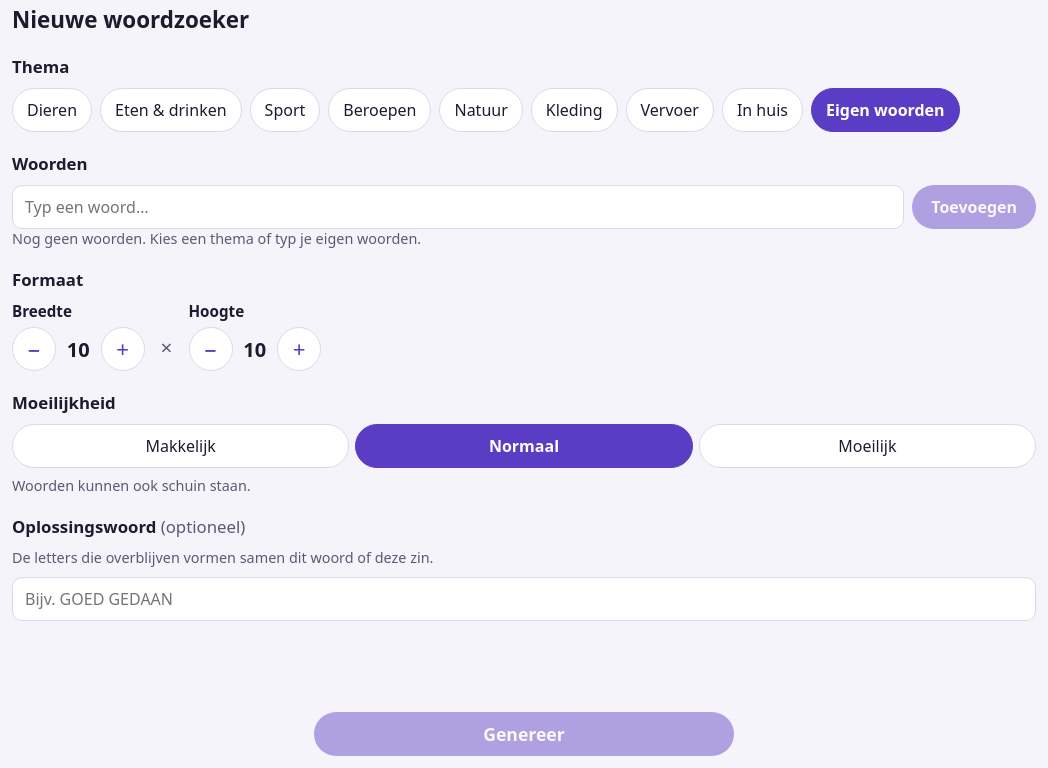
Test case: SetupScreen › adds, pastes and removes words
The width and height of the screenshot is (1048, 768).
In the field named "Woord toevoegen": point(458, 207) [12, 185, 904, 229], type "kat"
Then press Enter
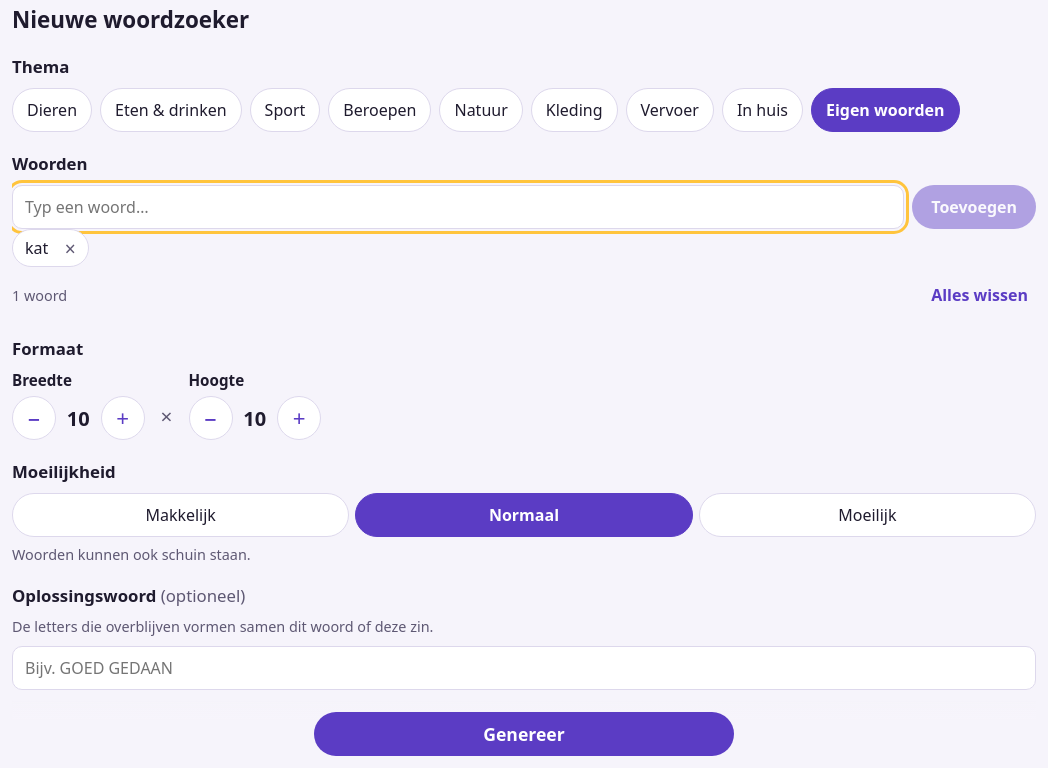
In the field named "Woord toevoegen": point(458, 207) [12, 185, 904, 229], type "hond, vis; ijs-beer"
Then press Enter
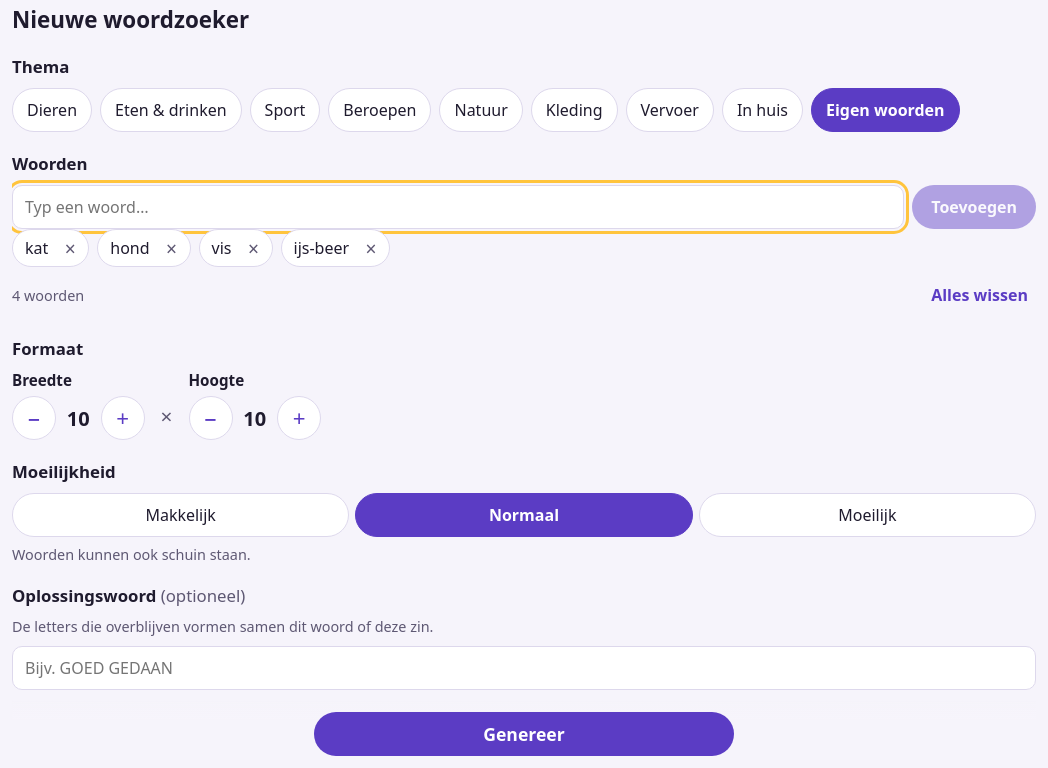
Click the button named "vis verwijderen": point(254, 248) [236, 230, 272, 266]
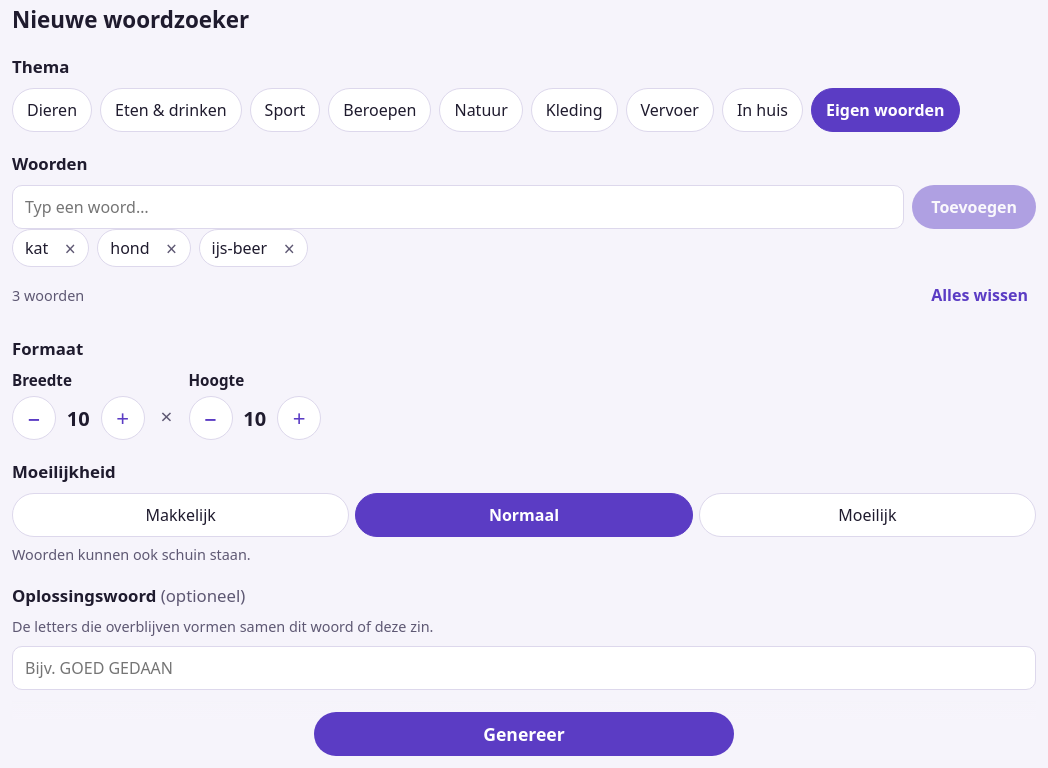
Click the button "Alles wissen": point(980, 295) [923, 273, 1036, 317]
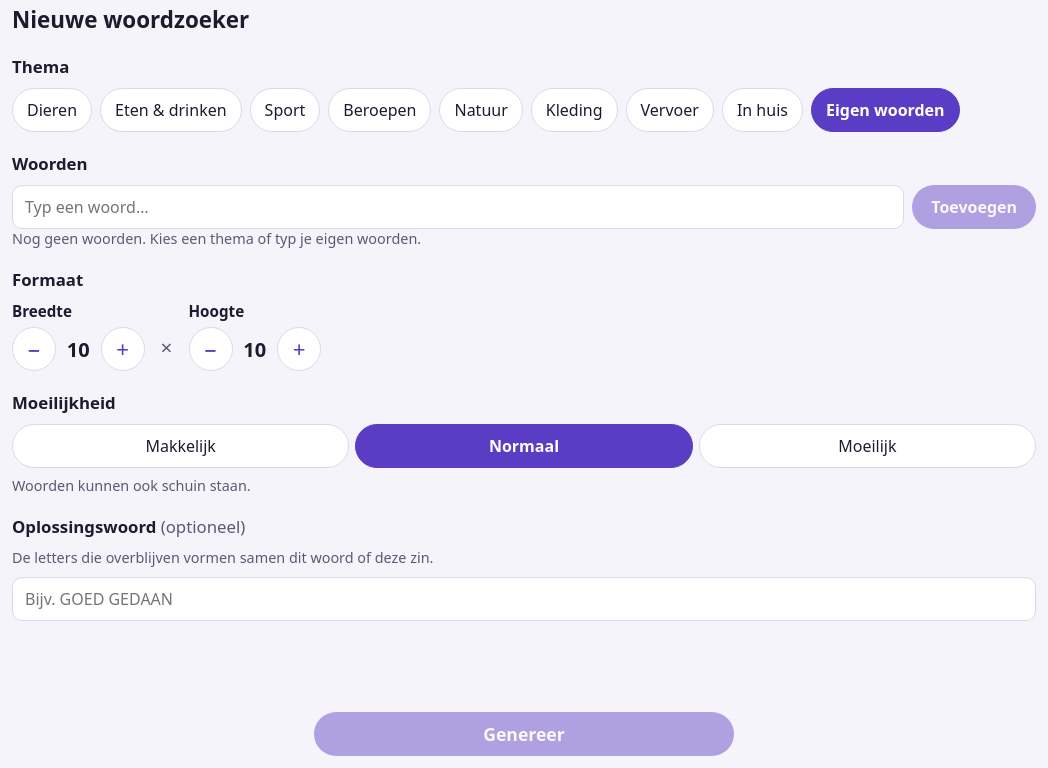
Now the list "Woordenlijst" is gone
